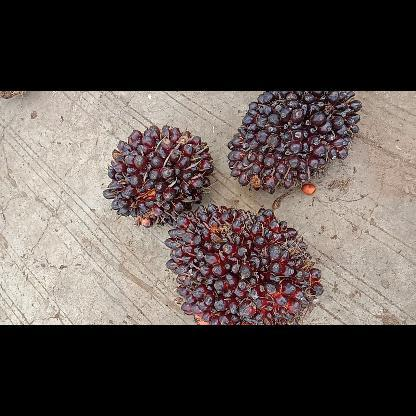TBS mentah: (160, 200, 326, 324), (224, 90, 362, 196), (100, 122, 216, 230)
